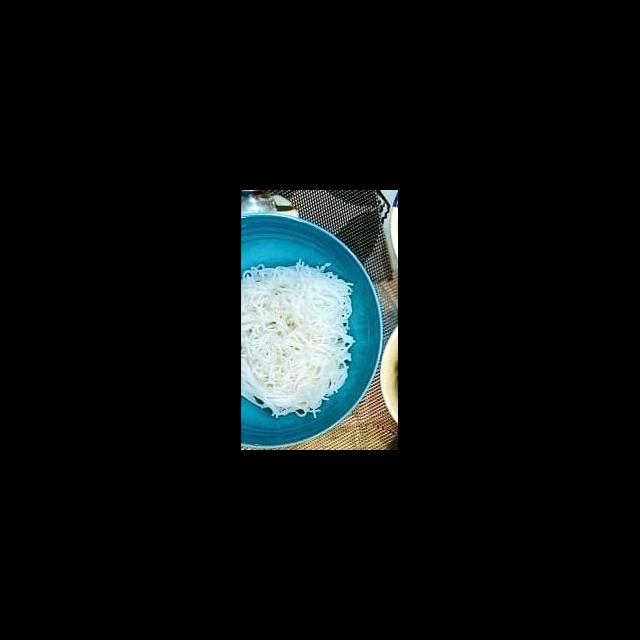bun: (242, 254, 358, 421)
